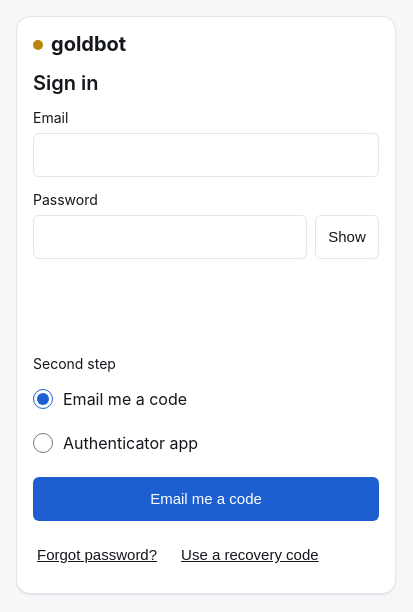
Test case: Login with an emailed code › E: at the hourly limit says when to try again and offers the authenticator
This screenshot has width=413, height=612.
Expected: the radio button labelled "Email me a code" is shown, [33, 377, 53, 421]
Type "owner@example.com" into the field labelled "Email".
click(206, 155); type("owner@example.com")  # box [33, 133, 379, 177]
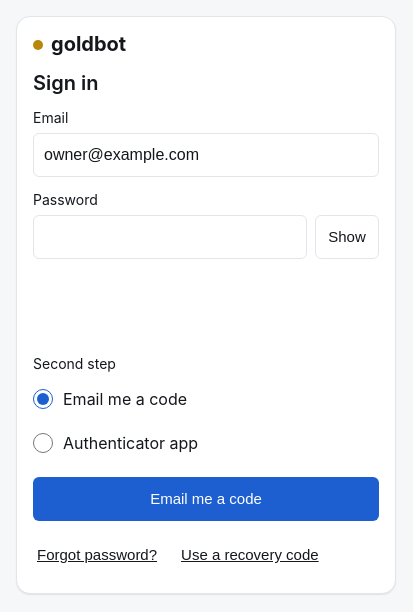
Type "owner password 123" into the password field labelled "Password".
click(170, 237); type("owner password 123")  # box [33, 215, 307, 259]
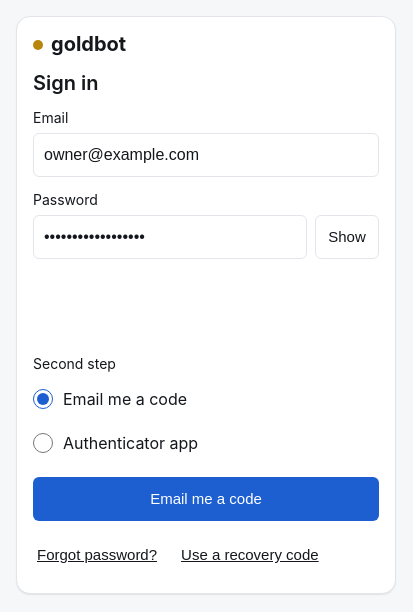
Click the button "Email me a code".
click(206, 499)  # box [33, 477, 379, 521]
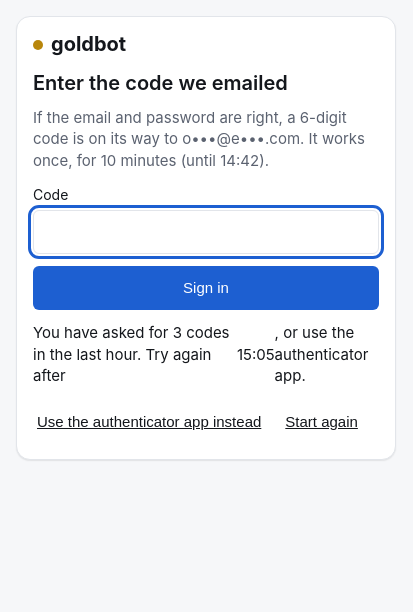
Expected: the heading "Enter the code we emailed" is shown, [33, 71, 288, 95]
Expected: the button "Use the authenticator app instead" is shown, [33, 399, 265, 443]
